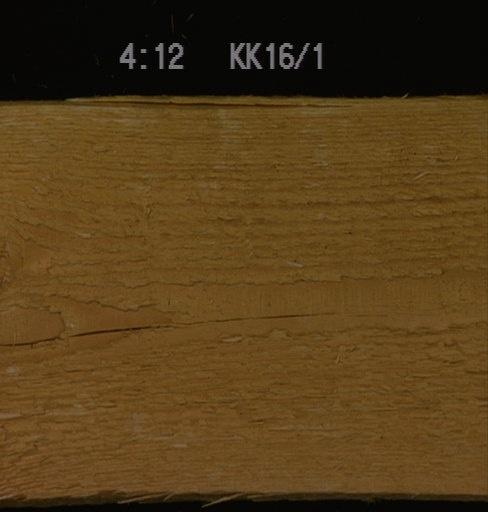split: (0, 310, 341, 347), (0, 94, 351, 109)
